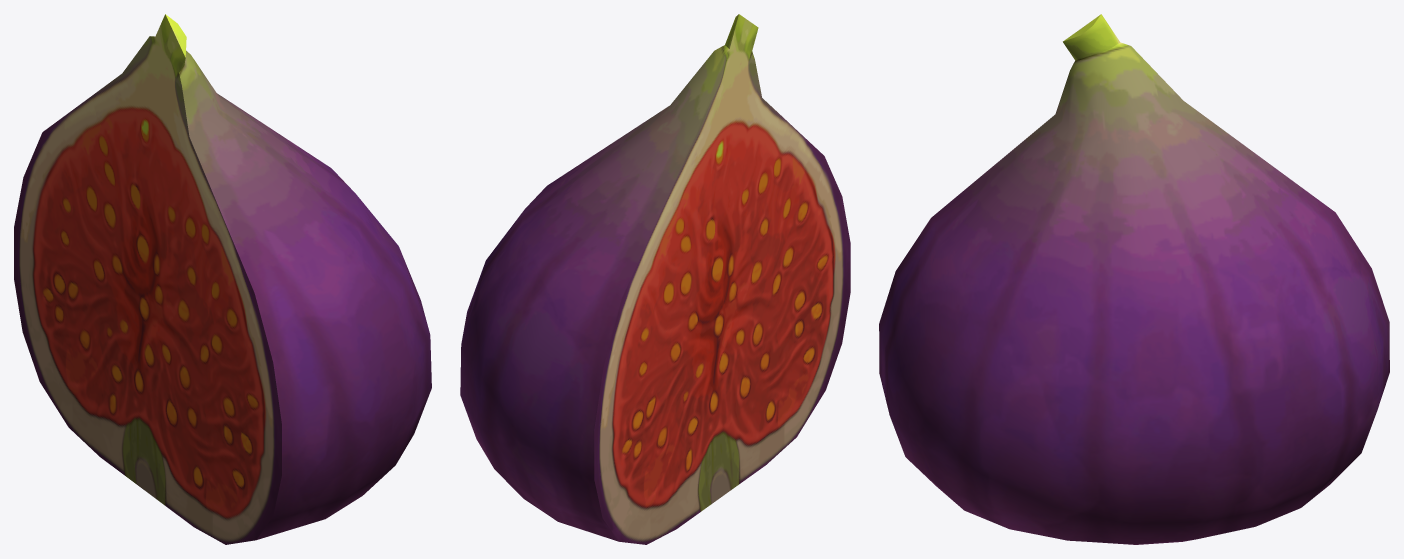
Rendered from SM_FigCutB.fbx.
3 views of the same model, side by side, from view 1: azimuth 30°, elevation 25°; view 2: azimuth 150°, elevation 25°; view 3: azimuth 270°, elevation 25° (orthographic). The views are drawn at different scales.
Parts seen in each view (by area): view 1: SM_FigCutB; view 2: SM_FigCutB; view 3: SM_FigCutB.
Boxes of the visible parts, x1=… form: SM_FigCutB: x1=14, y1=14, x2=431, y2=544; SM_FigCutB: x1=460, y1=14, x2=850, y2=544; SM_FigCutB: x1=879, y1=14, x2=1389, y2=544.
Bounding box in the file's own units: 5.7 × 11.18 × 11.03.
